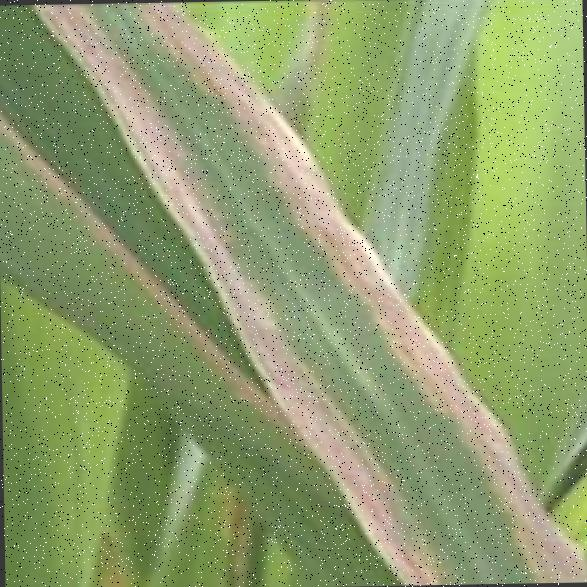Bacteria_Leaf_Blight: (278, 212, 560, 586)
